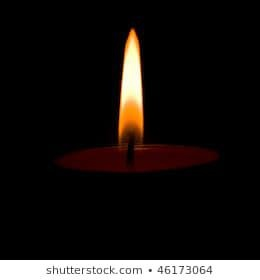fire: (117, 24, 144, 145)
